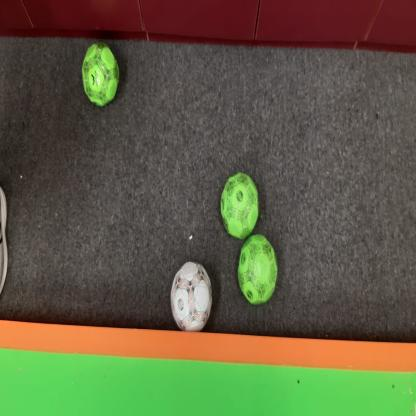ball: (170, 262, 212, 331), (238, 234, 278, 305), (220, 173, 259, 239), (82, 43, 120, 107)
